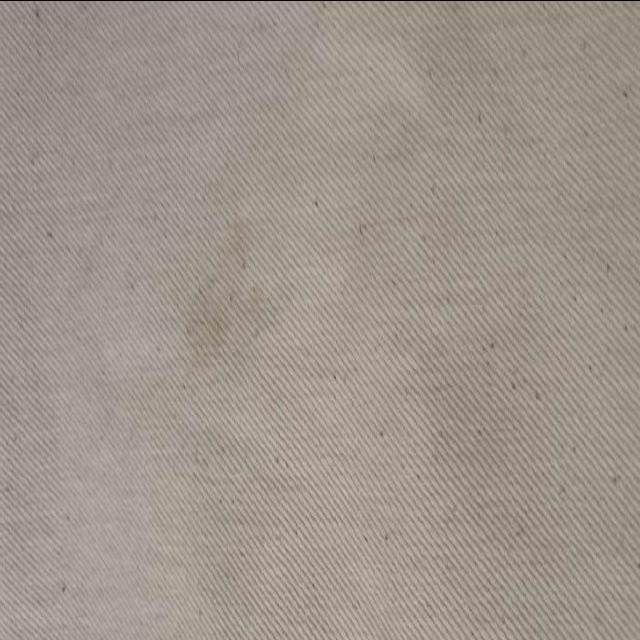taaaches: (162, 206, 282, 370)
